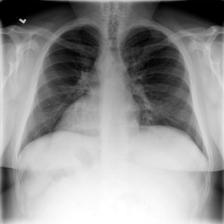normal: (17, 21, 214, 166)
